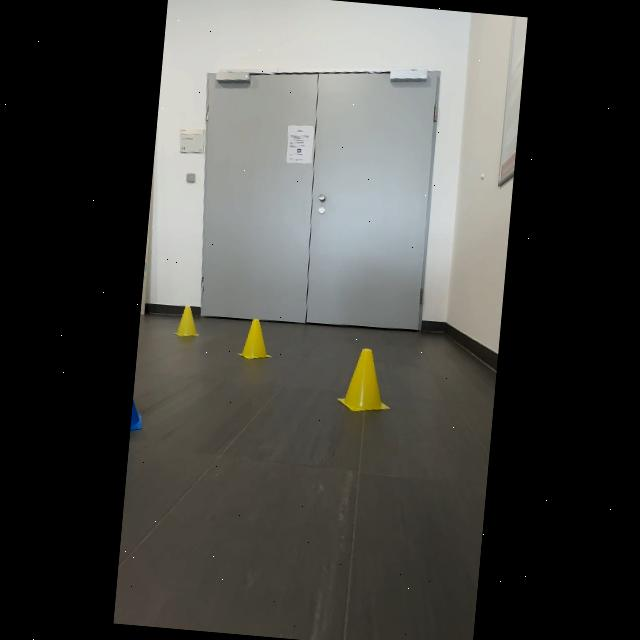yellow_cone: (334, 342, 398, 418), (230, 312, 278, 366), (172, 297, 208, 346)
